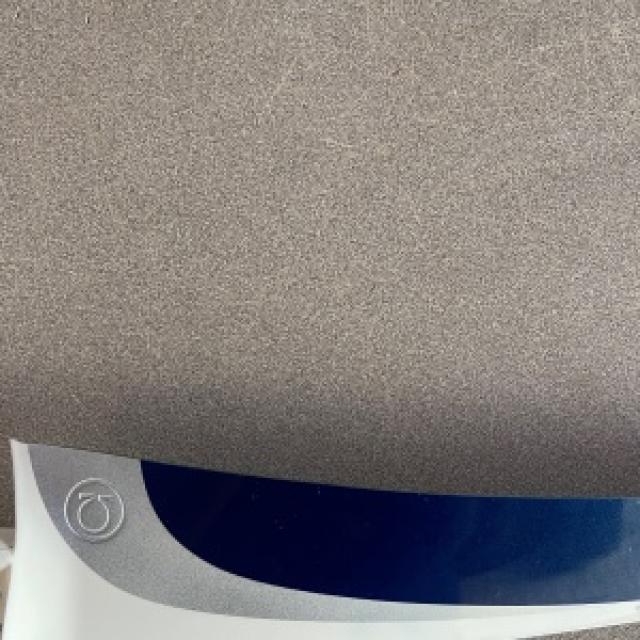healthy: (0, 0, 638, 523), (4, 439, 638, 638)
